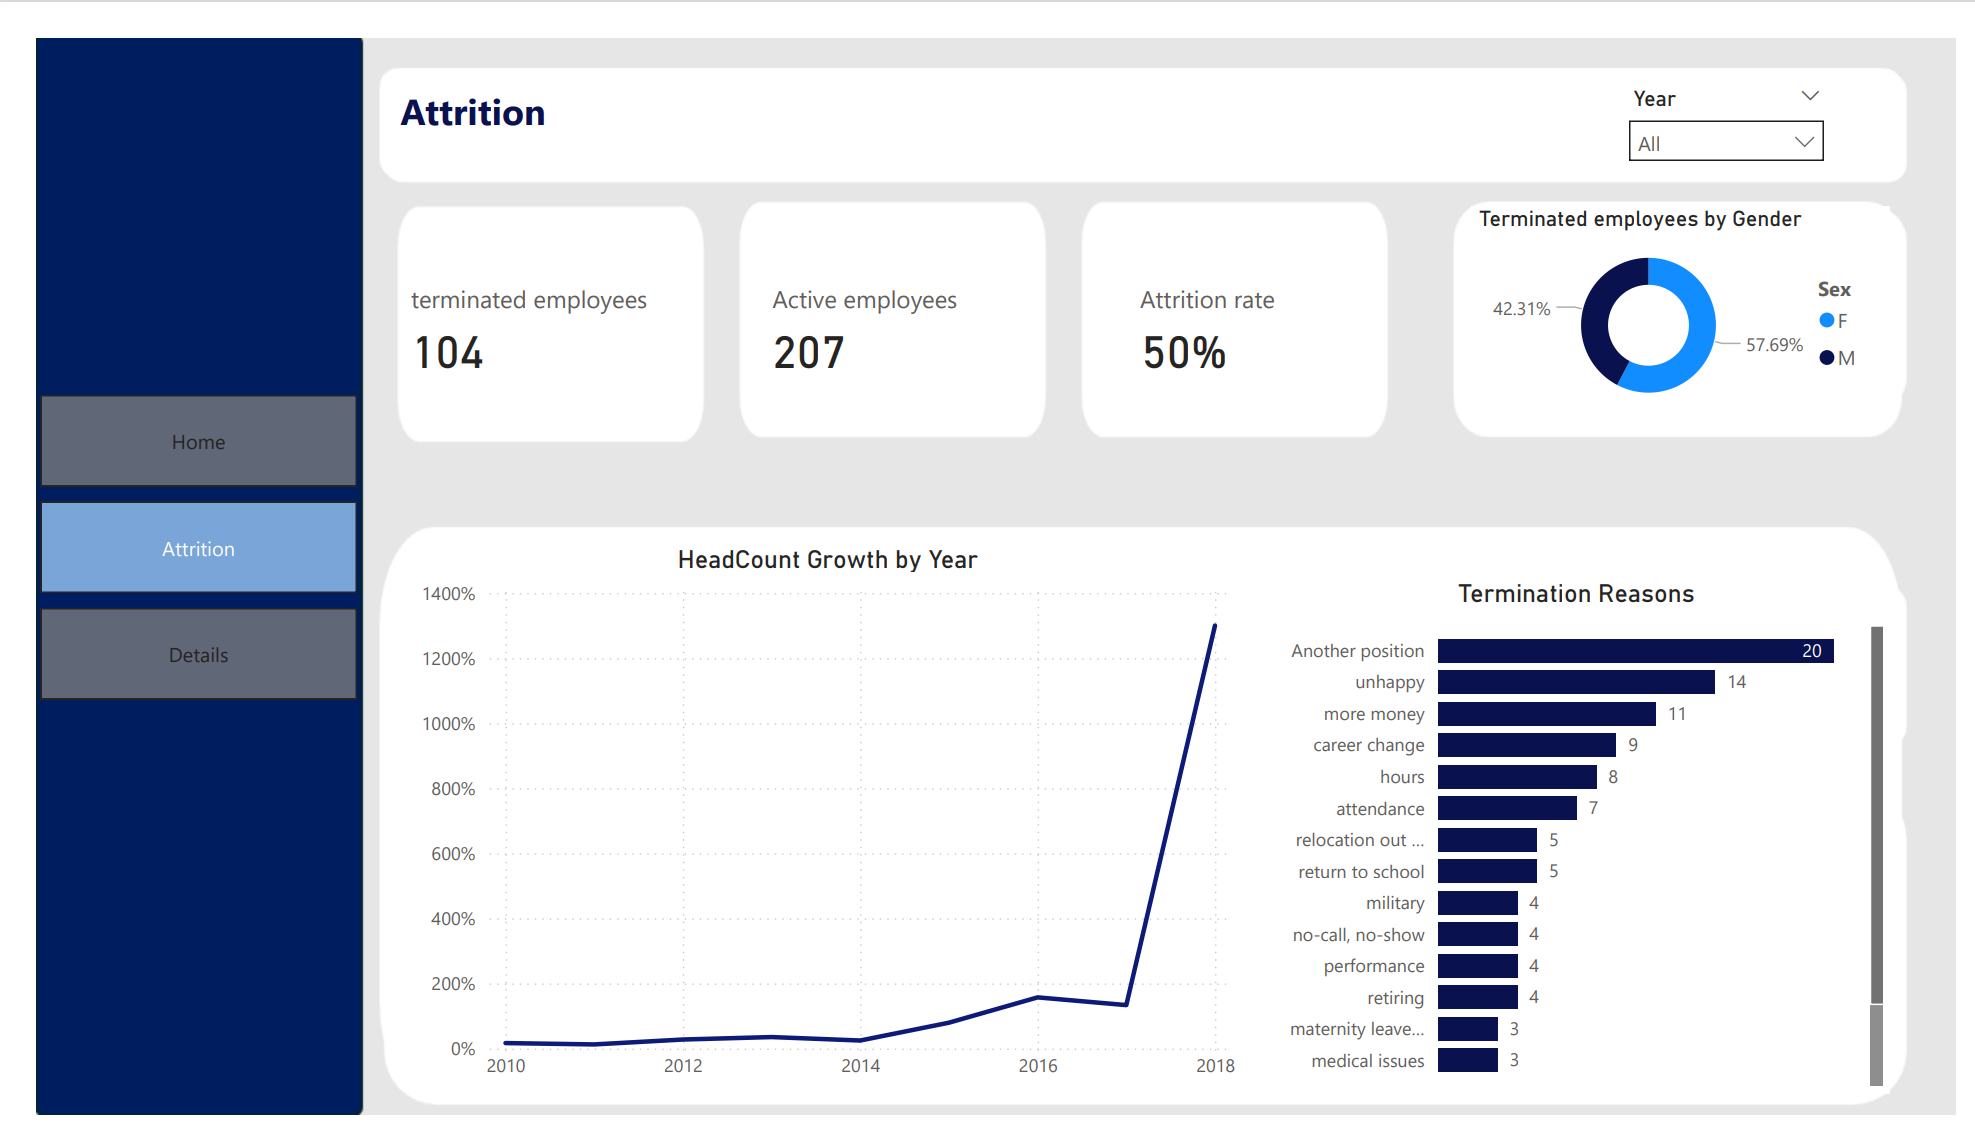

This screenshot's page, from the dashboard's own definition file:
{"tool":"powerbi","page":{"name":"Attrition","canvas":[1280,720],"ordinal":1},"visuals":[{"type":"cardVisual","fields":{"Data":["Measures Table.Attrition rate"]},"box":[724.2,132.9,137.7,122.1],"z":0},{"type":"textbox","box":[238.3,26.6,270.2,59.6],"z":1000},{"type":"slicer","fields":{"Values":["Date Table.Year"]},"box":[1052.1,26.6,150,59.6],"z":2000},{"type":"cardVisual","fields":{"Data":["Measures Table.terminated employees"]},"box":[238.2,132.9,203.5,122.1],"z":3000},{"type":"cardVisual","fields":{"Data":["Measures Table.Active employees"]},"box":[478.8,132.9,161.6,122.1],"z":4000},{"type":"donutChart","title":"Terminated employees by Gender","fields":{"Y":["Measures Table.terminated employees"],"Category":["HRDataset.Sex"]},"box":[957.4,111.7,278.7,143.6],"z":5000},{"type":"lineChart","title":"HeadCount Growth by Year","fields":{"Y":["Measures Table.Attrition rate"],"Category":["Date Table.Year","Date Table.Month"]},"box":[252.1,337.2,552.1,367],"z":6000},{"type":"barChart","title":"Termination Reasons","fields":{"Category":["HRDataset.TermReason"],"Y":["Measures Table.terminated employees"]},"box":[818.1,359.6,418.1,344.7],"z":7000},{"type":"pageNavigator","box":[2.5,237.5,211.2,203.8],"z":8000}]}

Visuals, with their boxes in screenshot pixels (x1, y1, x2, y2), scaled from the page's 1280x720 canvas onto the 1975x1144 screenshot:
cardVisual - Measures Table.Attrition rate: x1=1117, y1=211, x2=1330, y2=405
textbox: x1=368, y1=42, x2=785, y2=137
slicer - Date Table.Year: x1=1623, y1=42, x2=1855, y2=137
cardVisual - Measures Table.terminated employees: x1=368, y1=211, x2=682, y2=405
cardVisual - Measures Table.Active employees: x1=739, y1=211, x2=988, y2=405
"Terminated employees by Gender" donutChart: x1=1477, y1=177, x2=1907, y2=406
"HeadCount Growth by Year" lineChart: x1=389, y1=536, x2=1241, y2=1119
"Termination Reasons" barChart: x1=1262, y1=571, x2=1907, y2=1119
pageNavigator: x1=4, y1=377, x2=330, y2=701
